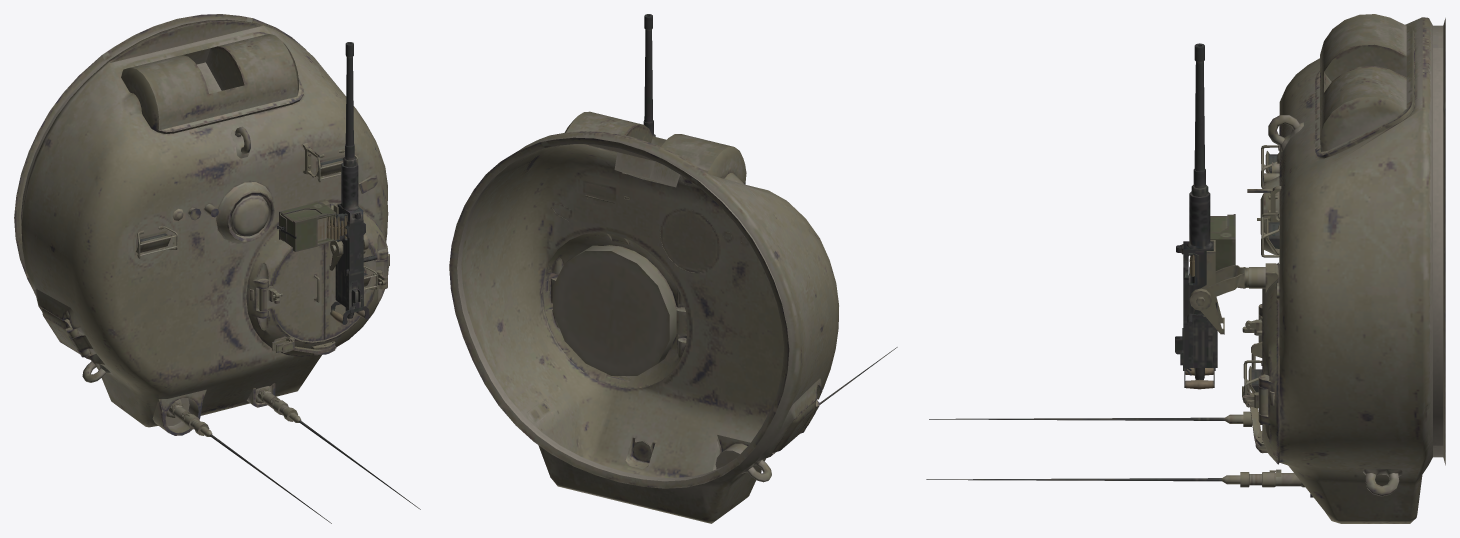
File: Turret_01.glb
3 views of the same model, side by side, from view 1: azimuth 30°, elevation 25°; view 2: azimuth 150°, elevation 25°; view 3: azimuth 270°, elevation 25° (orthographic). The views are drawn at different scales.
Visible parts, largest first — view 1: set_0_group_0; view 2: set_0_group_0; view 3: set_0_group_0.
Part boxes in pixels (x1,y1,x2,y2): set_0_group_0: [14, 14, 420, 523]; set_0_group_0: [449, 14, 897, 523]; set_0_group_0: [926, 14, 1445, 523].
Size of the model in its own units: 2.08 by 2.34 by 2.31.
1 material, 1 textured.
